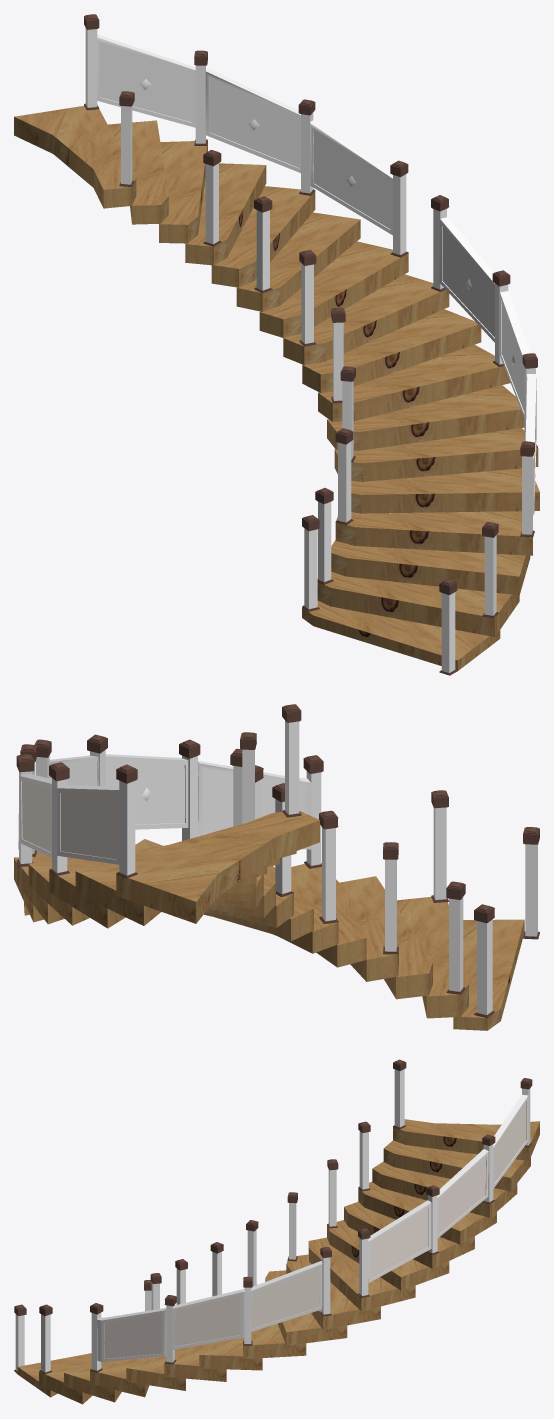
3 renders of one model, top to bottom at view 1: azimuth 30°, elevation 25°; view 2: azimuth 150°, elevation 25°; view 3: azimuth 270°, elevation 25°, orthographic. The views are drawn at different scales.
Parts seen in each view (by area): view 1: Group13, Group5, Group7, Group11, Group4, Group3, Group12, Group14, Group27, Group8, Group25, Group9 (+26 smaller); view 2: Group14, Group25, Group33, Group19, Group3, Group35, Group4, Group5, Group18, Group27, Group11, Group17 (+25 smaller); view 3: Group31, Group33, Group35, Group29, Group14, Group18, Group21, Group27, Group16, Group17, Group22, Group25 (+22 smaller).
Boxes of the visible parts, x1=… form: Group13: x1=327, y1=385, x2=524, y2=450; Group5: x1=335, y1=511, x2=532, y2=555; Group7: x1=318, y1=344, x2=510, y2=421; Group11: x1=351, y1=468, x2=539, y2=513; Group4: x1=331, y1=540, x2=530, y2=595; Group3: x1=317, y1=572, x2=519, y2=636; Group12: x1=334, y1=428, x2=538, y2=481; Group14: x1=14, y1=106, x2=136, y2=208; Group27: x1=205, y1=68, x2=300, y2=172; Group8: x1=302, y1=309, x2=481, y2=392; Group25: x1=97, y1=34, x2=195, y2=127; Group9: x1=283, y1=274, x2=449, y2=365; Group14: x1=116, y1=811, x2=319, y2=923; Group25: x1=57, y1=785, x2=119, y2=864; Group33: x1=105, y1=754, x2=188, y2=829; Group19: x1=453, y1=919, x2=524, y2=1030; Group3: x1=397, y1=897, x2=468, y2=1018; Group35: x1=198, y1=761, x2=311, y2=849; Group4: x1=340, y1=876, x2=432, y2=999; Group5: x1=291, y1=863, x2=398, y2=981; Group18: x1=75, y1=823, x2=296, y2=925; Group27: x1=19, y1=774, x2=51, y2=857; Group11: x1=263, y1=866, x2=366, y2=967; Group17: x1=49, y1=845, x2=279, y2=928; Group31: x1=249, y1=1261, x2=322, y2=1332; Group33: x1=171, y1=1289, x2=244, y2=1349; Group35: x1=97, y1=1308, x2=166, y2=1361; Group29: x1=368, y1=1200, x2=431, y2=1282; Group14: x1=393, y1=1119, x2=539, y2=1160; Group18: x1=383, y1=1140, x2=530, y2=1191; Group21: x1=308, y1=1237, x2=415, y2=1311; Group27: x1=437, y1=1149, x2=488, y2=1238; Group16: x1=358, y1=1181, x2=496, y2=1244; Group17: x1=372, y1=1161, x2=517, y2=1217; Group22: x1=327, y1=1220, x2=449, y2=1290; Group25: x1=493, y1=1094, x2=528, y2=1188.
Size of the model in its own units: 8.34 by 10.71 by 17.53.
5 materials, 1 textured.
